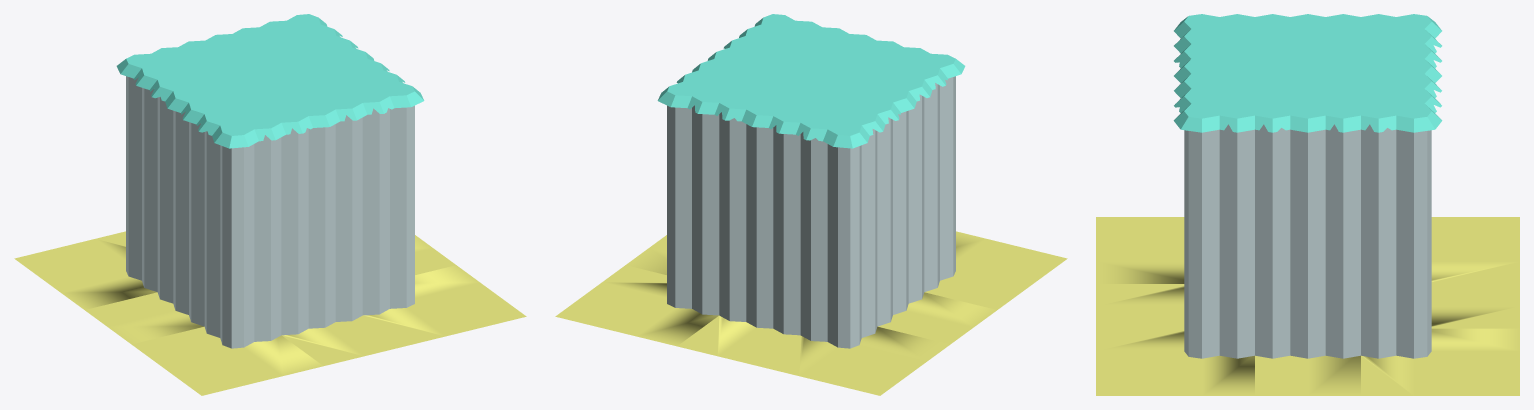
The model's file is stone.fbx.
The picture shows the model from 3 angles, left to right: view 1: azimuth 30°, elevation 25°; view 2: azimuth 150°, elevation 25°; view 3: azimuth 270°, elevation 25°; orthographic projection. The views are drawn at different scales.
Parts seen in each view (by area): view 1: 2-ecke-außen-riff, 2-gerade-cliff, 1-ecke-außen-riff, 2-ecke-außen-cliff, 3-ecke-außen-riff, 2-gerade, 2-gerade-riff, 2-ecke-außen, 3-gerade-cliff, 1-ecke-außen-cliff, 3-gerade-riff, 1-ecke-außen (+11 smaller); view 2: 3-ecke-außen-riff, 0-gerade-cliff, 0-ecke-außen-riff, 3-ecke-außen-cliff, 2-ecke-außen-riff, 0-gerade, 0-gerade-riff, 3-ecke-außen, 3-gerade-cliff, 0-ecke-außen-cliff, 3-gerade-riff, 0-ecke-außen (+11 smaller); view 3: 1-gerade-cliff, 1-ecke-außen-riff, 0-ecke-außen-riff, 1-gerade, 1-gerade-riff, 1-ecke-außen-cliff, 0-ecke-außen-cliff, 0-ecke-außen, 1-ecke-außen, 2-ecke-außen-riff, 3-ecke-außen-riff, 2-gerade-riff (+10 smaller).
Part boxes in pixels (x1=…): 2-ecke-außen-riff: x1=131, y1=285, x2=323, y2=395; 2-gerade-cliff: x1=253, y1=82, x2=367, y2=207; 1-ecke-außen-riff: x1=362, y1=261, x2=526, y2=346; 2-ecke-außen-cliff: x1=196, y1=102, x2=285, y2=220; 3-ecke-außen-riff: x1=14, y1=229, x2=157, y2=309; 2-gerade: x1=281, y1=188, x2=362, y2=292; 2-gerade-riff: x1=281, y1=273, x2=404, y2=365; 2-ecke-außen: x1=204, y1=200, x2=281, y2=305; 3-gerade-cliff: x1=149, y1=68, x2=252, y2=198; 1-ecke-außen-cliff: x1=335, y1=70, x2=424, y2=187; 3-gerade-riff: x1=85, y1=250, x2=204, y2=344; 1-ecke-außen: x1=362, y1=176, x2=414, y2=272; 3-ecke-außen-riff: x1=758, y1=285, x2=950, y2=395; 0-gerade-cliff: x1=714, y1=82, x2=828, y2=207; 0-ecke-außen-riff: x1=555, y1=261, x2=719, y2=346; 3-ecke-außen-cliff: x1=796, y1=102, x2=885, y2=220; 2-ecke-außen-riff: x1=924, y1=229, x2=1067, y2=309; 0-gerade: x1=719, y1=188, x2=800, y2=292; 0-gerade-riff: x1=677, y1=273, x2=800, y2=365; 3-ecke-außen: x1=800, y1=200, x2=877, y2=305; 3-gerade-cliff: x1=829, y1=68, x2=932, y2=198; 0-ecke-außen-cliff: x1=657, y1=70, x2=746, y2=187; 3-gerade-riff: x1=877, y1=250, x2=996, y2=344; 0-ecke-außen: x1=667, y1=176, x2=719, y2=272; 1-gerade-cliff: x1=1255, y1=88, x2=1360, y2=214; 1-ecke-außen-riff: x1=1096, y1=304, x2=1254, y2=395; 0-ecke-außen-riff: x1=1361, y1=304, x2=1519, y2=395; 1-gerade: x1=1255, y1=211, x2=1360, y2=310; 1-gerade-riff: x1=1255, y1=307, x2=1360, y2=395; 1-ecke-außen-cliff: x1=1173, y1=88, x2=1254, y2=214; 0-ecke-außen-cliff: x1=1361, y1=88, x2=1442, y2=214; 0-ecke-außen: x1=1361, y1=208, x2=1431, y2=310; 1-ecke-außen: x1=1184, y1=208, x2=1254, y2=310; 2-ecke-außen-riff: x1=1096, y1=217, x2=1184, y2=283; 3-ecke-außen-riff: x1=1431, y1=217, x2=1519, y2=283; 2-gerade-riff: x1=1096, y1=284, x2=1184, y2=328.
Bounding box in the file's own units: 400 × 300 × 400.
